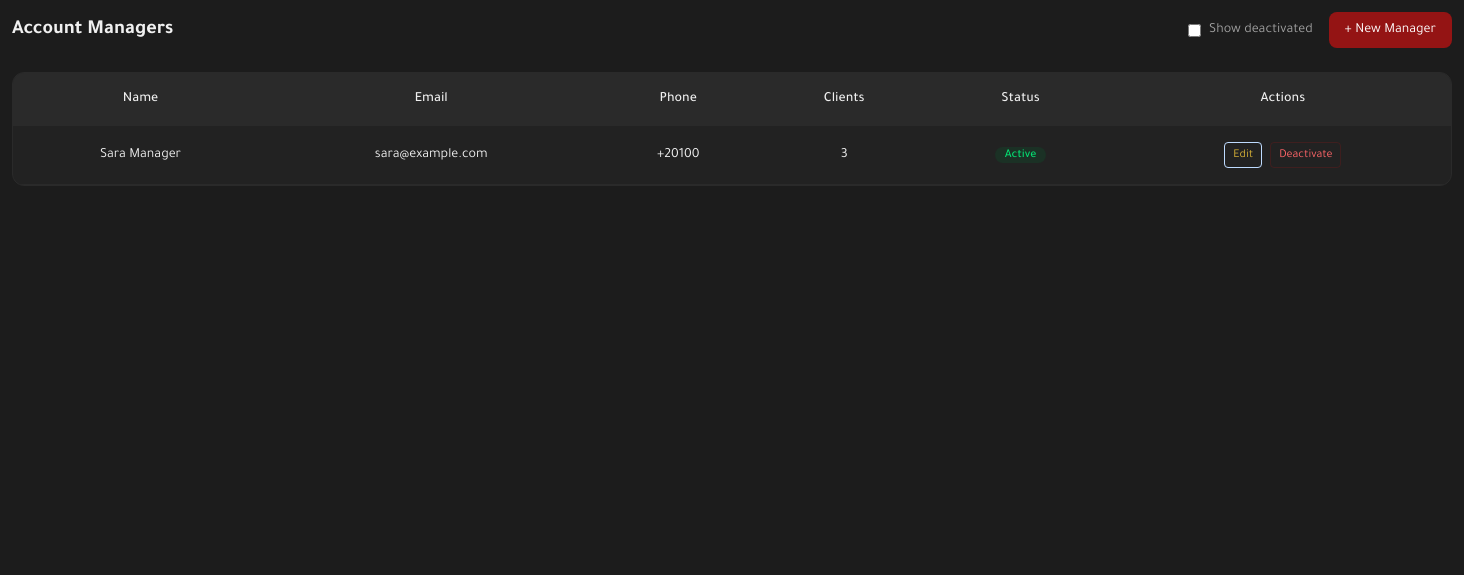
Test: AccountManagersPage › the edit-form checkbox label no longer carries the signature sentence
Click the button "Edit": [1243, 155] box [1224,142,1262,168]
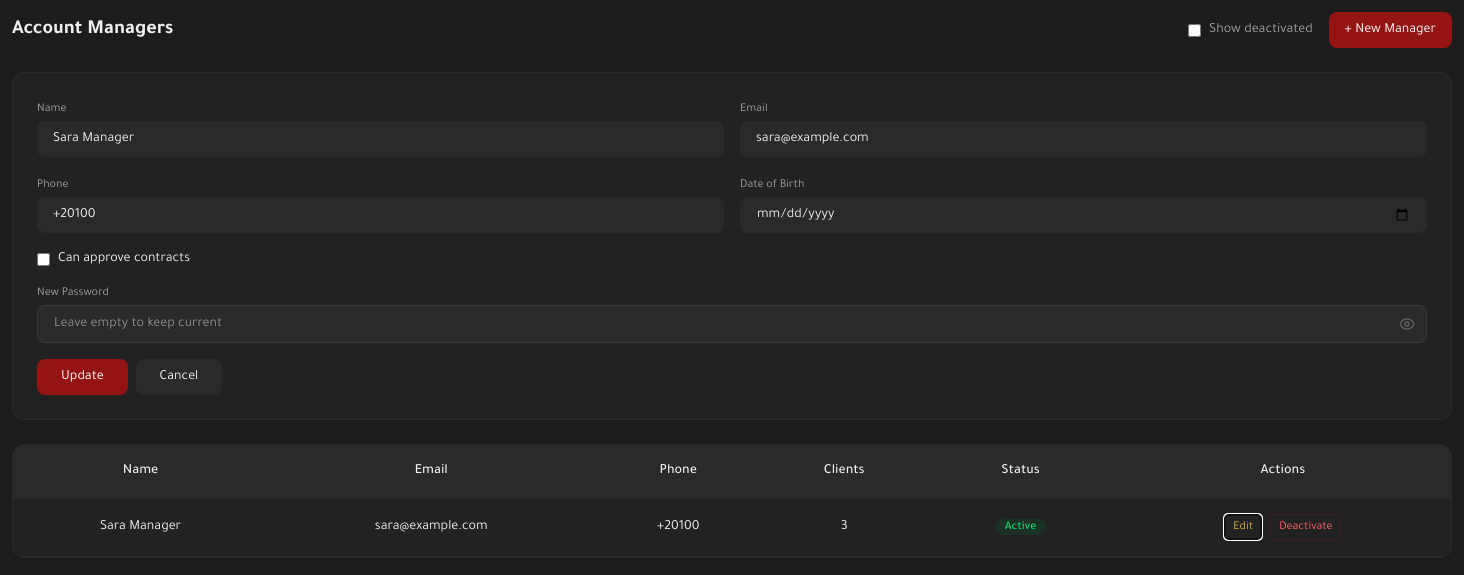
Result: the checkbox labelled "Can approve contracts" is shown at [37,252,50,266]
